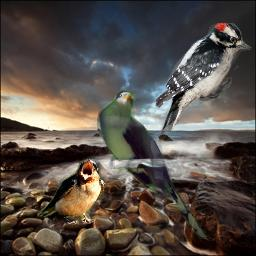Cuckoo: (97, 90, 214, 241)
Swallow: (37, 158, 105, 224)
Woodpecker: (155, 23, 254, 136)
